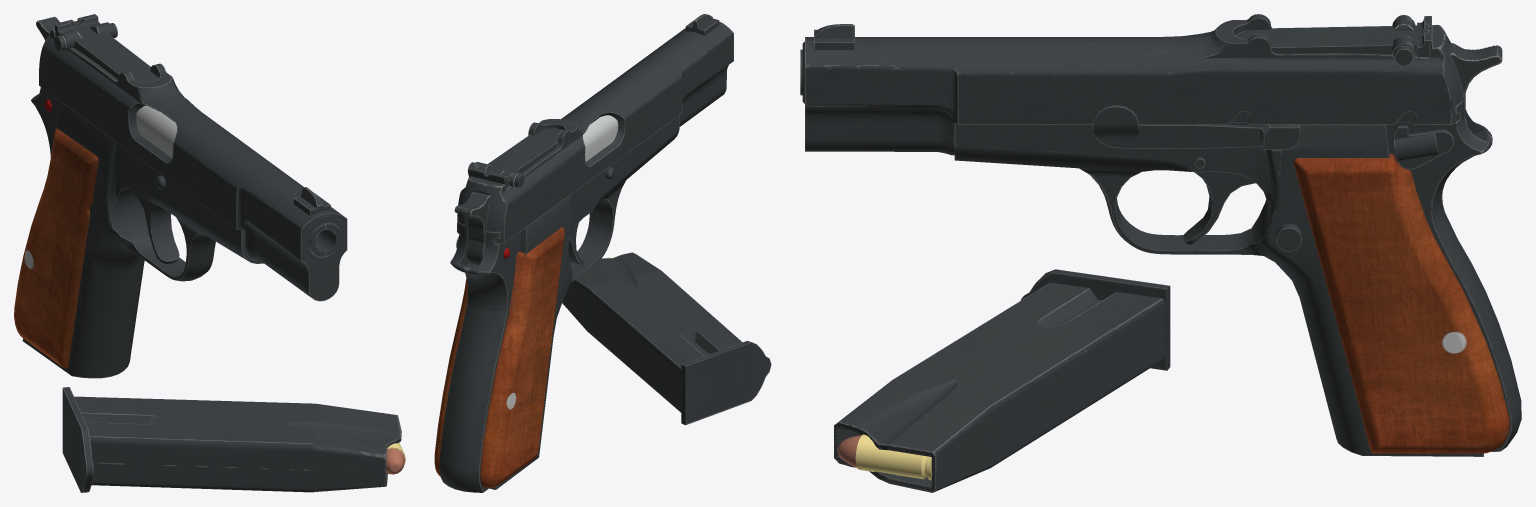
The model's file is browning_hi-power.glb.
3 renders of one model, left to right at view 1: azimuth 30°, elevation 25°; view 2: azimuth 150°, elevation 25°; view 3: azimuth 270°, elevation 25°, orthographic. The views are drawn at different scales.
Visible parts, largest first — view 1: Browning_HP_BrowningHP_0, mag_BrowningHP_0, slide_BrowningHP_0, slight_BrowningHP_0; view 2: Browning_HP_BrowningHP_0, mag_BrowningHP_0, slide_BrowningHP_0, slight_BrowningHP_0; view 3: Browning_HP_BrowningHP_0, slide_BrowningHP_0, mag_BrowningHP_0, slide_lock_BrowningHP_0, slight_BrowningHP_0.
Part boxes in pixels (x1,y1,x2,y2): Browning_HP_BrowningHP_0: (14, 16, 341, 378); mag_BrowningHP_0: (62, 387, 405, 492); slide_BrowningHP_0: (39, 21, 347, 301); slight_BrowningHP_0: (54, 14, 158, 81); Browning_HP_BrowningHP_0: (434, 115, 679, 492); mag_BrowningHP_0: (562, 252, 771, 425); slide_BrowningHP_0: (457, 14, 733, 243); slight_BrowningHP_0: (467, 128, 560, 188); Browning_HP_BrowningHP_0: (800, 43, 1521, 456); slide_BrowningHP_0: (802, 14, 1462, 155); mag_BrowningHP_0: (834, 269, 1170, 492); slide_lock_BrowningHP_0: (1092, 105, 1299, 149); slight_BrowningHP_0: (1235, 15, 1431, 66).
Size of the model in its own units: 0.3804 by 0.435 by 0.6862.
1 material, 1 textured.
